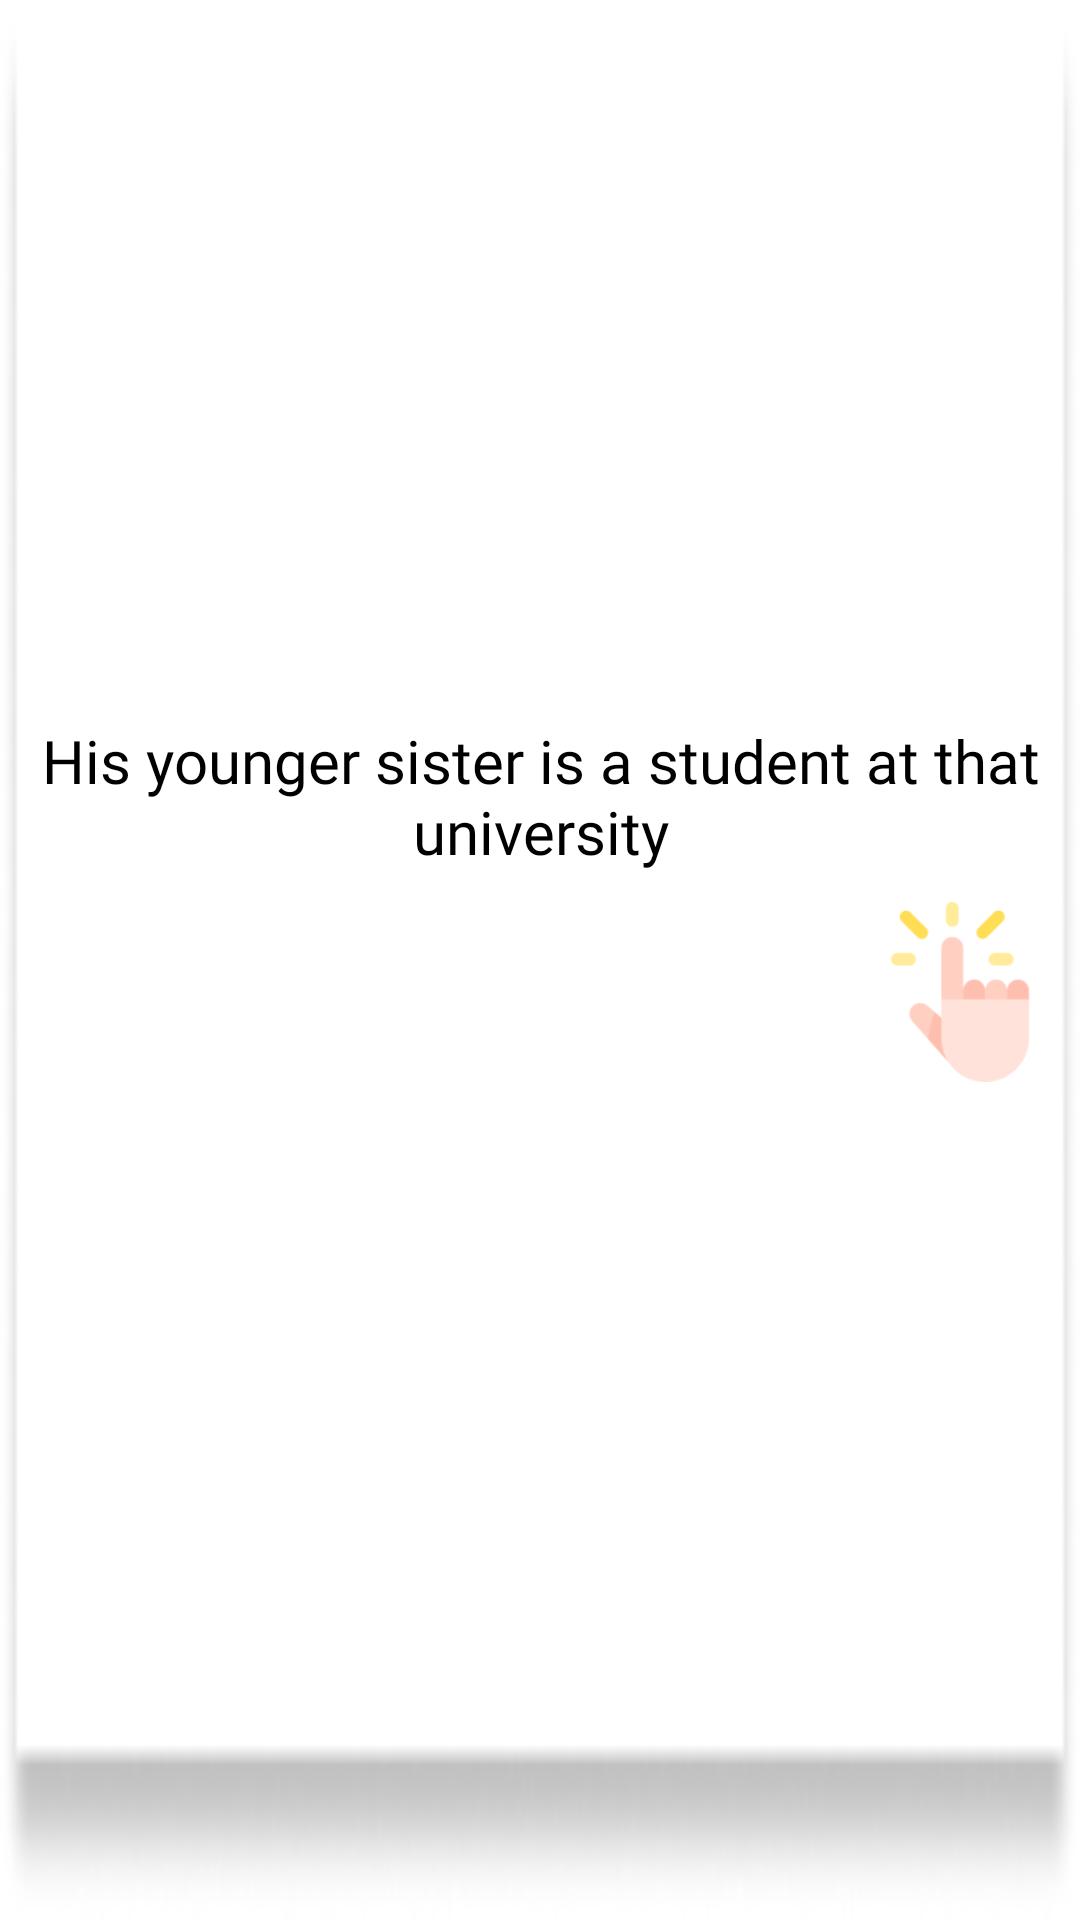

Screen size 1080×1920. Icon name, then its center in pixels as point (x, y):
touch: point (960, 992)
